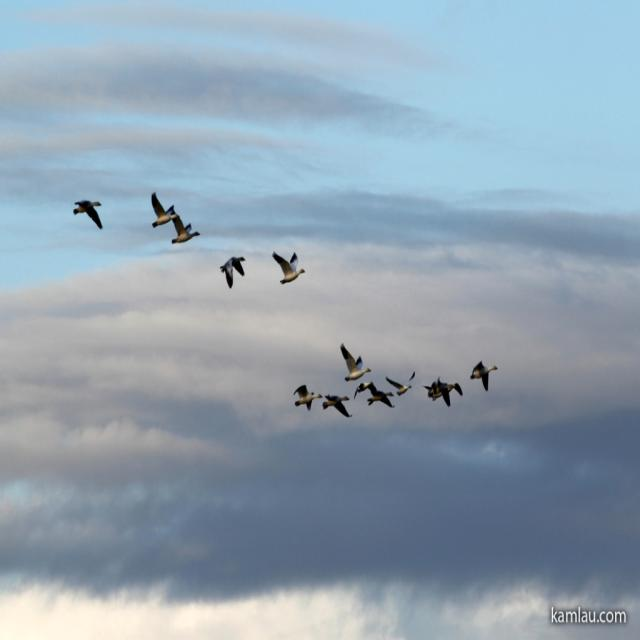bird: (168, 205, 201, 250), (340, 344, 372, 384), (270, 250, 304, 286), (218, 251, 247, 292), (422, 379, 463, 408), (73, 198, 104, 232), (359, 382, 394, 412), (148, 190, 174, 228), (471, 360, 500, 394), (320, 394, 353, 419), (385, 372, 415, 396), (293, 384, 317, 413)
